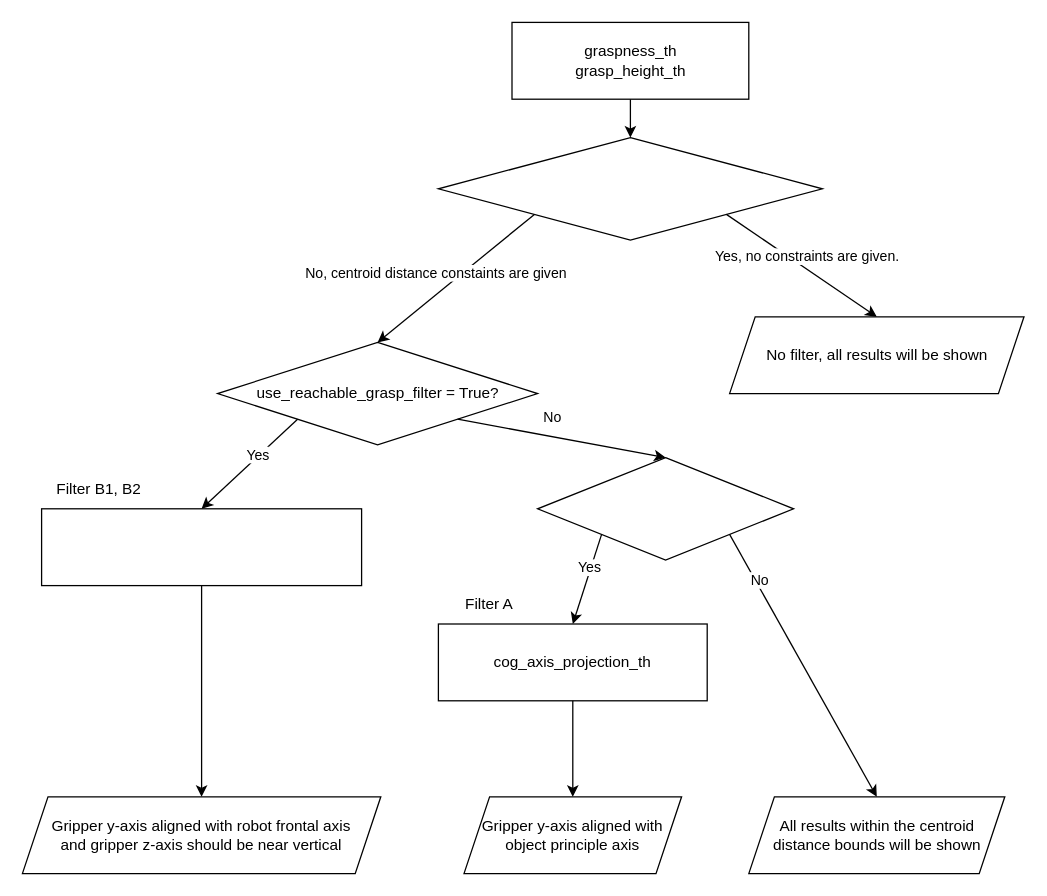
Some shapes in this 1047 by 896 pixel diagram are drawn without their labels. The shapes that lost their labels are listed below. From the top down, each one's centre as x and y in pixels, then its label:
At (629,188): "grasp_cog_max_dist_th = None? grasp_cog_max_dist_th = None?".
At (665,508): "use_cog_filter = True?".
At (201,547): "grasp_axis_projection_th grasp_z_negative_world_z_angle_th".
